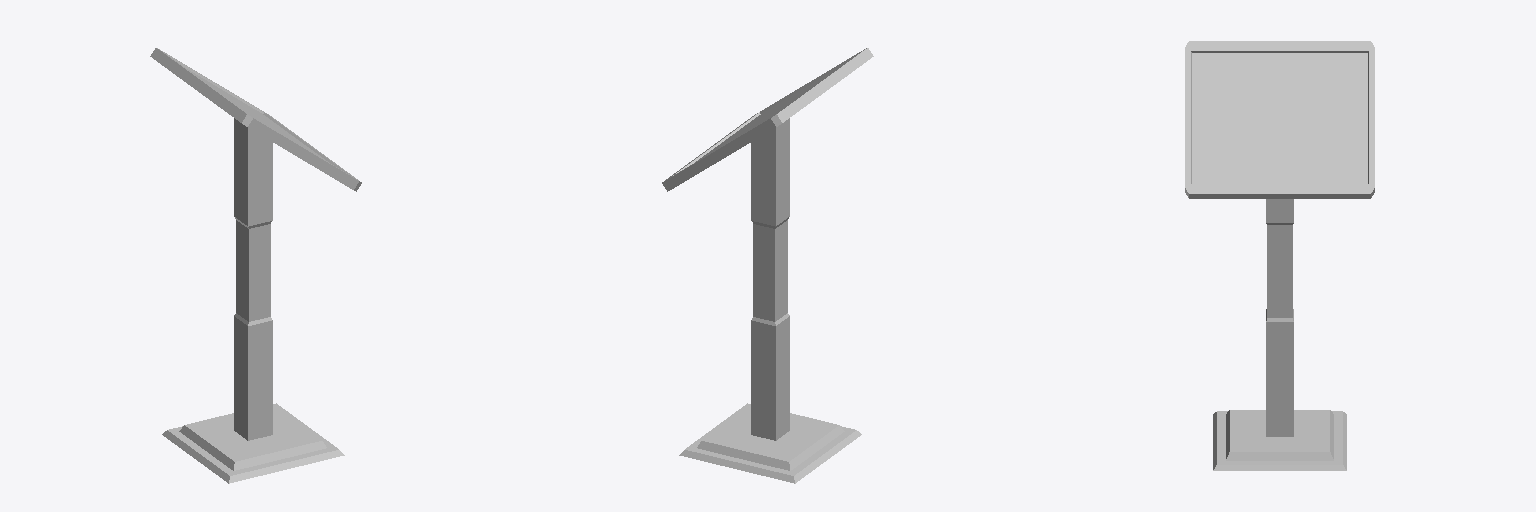
File: HospitalDisplay.obj
3 views of the same model, side by side, from view 1: azimuth 30°, elevation 25°; view 2: azimuth 150°, elevation 25°; view 3: azimuth 270°, elevation 25° (orthographic).
Visible parts, largest first — view 1: objMesh; view 2: objMesh; view 3: objMesh.
Part boxes in pixels (x1,y1,x2,y2): objMesh: (150, 48, 361, 483); objMesh: (662, 48, 873, 483); objMesh: (1185, 41, 1374, 470).
Bounding box in the file's own units: 2.09 × 6.2 × 2.82.